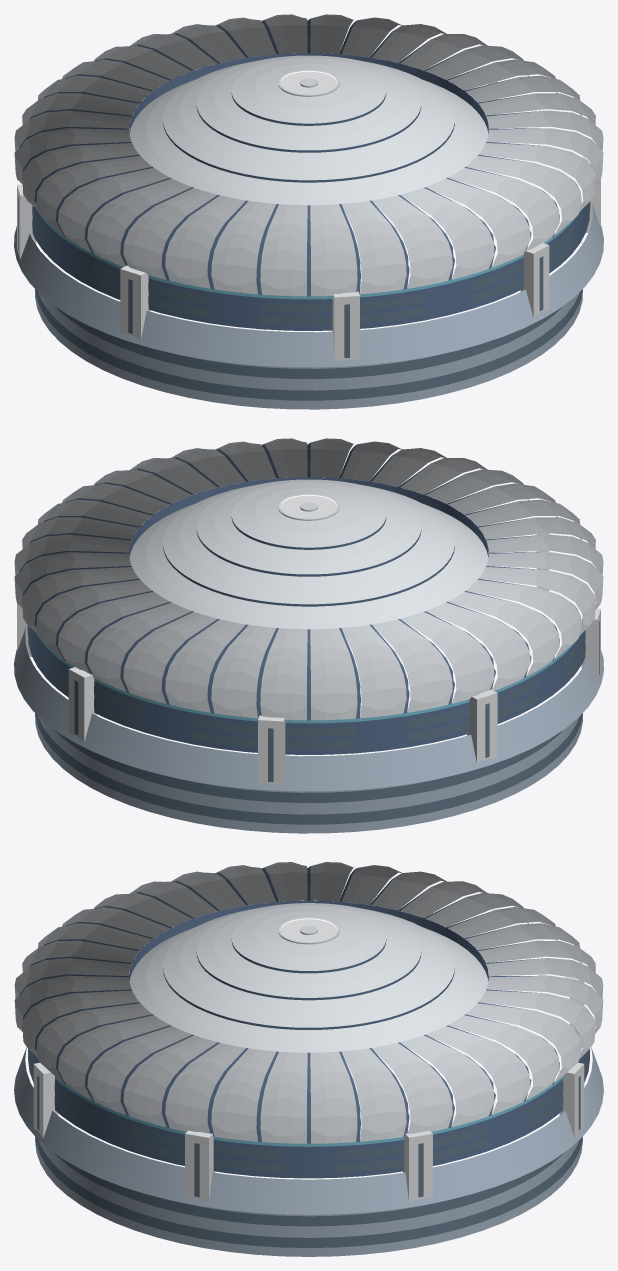
The model's file is osaka-kyocera-dome.glb.
The picture shows the model from 3 angles, top to bottom: view 1: azimuth 30°, elevation 25°; view 2: azimuth 150°, elevation 25°; view 3: azimuth 270°, elevation 25°; orthographic projection.
Parts seen in each view (by area): view 1: Kyocera Dome Osaka; view 2: Kyocera Dome Osaka; view 3: Kyocera Dome Osaka.
Boxes of the visible parts, x1,y1,x2,y2 form: Kyocera Dome Osaka: (14,14,603,409); Kyocera Dome Osaka: (14,438,603,833); Kyocera Dome Osaka: (14,862,603,1256).
Size of the model in its own units: 210 by 83 by 210.
